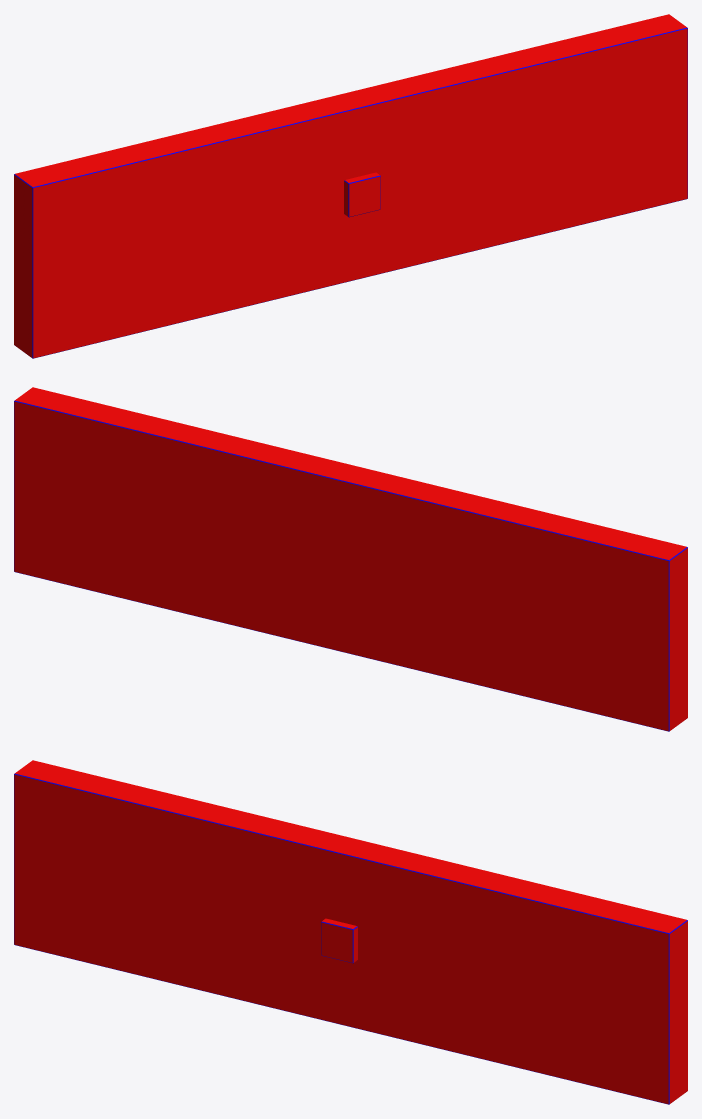
Rendered from alle_Klötze.fbx.
3 renders of one model, top to bottom at view 1: azimuth 30°, elevation 25°; view 2: azimuth 150°, elevation 25°; view 3: azimuth 330°, elevation 25°, orthographic.
Parts seen in each view (by area): view 1: Würfel_5, Würfel_6, Würfel_4, Würfel_7, Würfel_3, Würfel_1; view 2: Würfel_5, Würfel_6, Würfel_4, Würfel_7, Würfel_3, Würfel_2; view 3: Würfel_5, Würfel_6, Würfel_4, Würfel_7, Würfel_3, Würfel_1.
Boxes of the visible parts, box(x1,y1,x2,y2) form: Würfel_5: box(14, 14, 687, 358); Würfel_6: box(14, 97, 687, 289); Würfel_4: box(279, 127, 440, 263); Würfel_7: box(279, 141, 441, 246); Würfel_3: box(279, 158, 441, 229); Würfel_1: box(344, 172, 380, 217); Würfel_5: box(14, 387, 687, 731); Würfel_6: box(14, 470, 687, 662); Würfel_4: box(260, 496, 422, 636); Würfel_7: box(260, 513, 422, 619); Würfel_3: box(260, 530, 422, 601); Würfel_2: box(309, 542, 373, 590); Würfel_5: box(14, 760, 687, 1104); Würfel_6: box(14, 843, 687, 1035); Würfel_4: box(260, 869, 422, 1009); Würfel_7: box(260, 886, 422, 992); Würfel_3: box(260, 903, 422, 975); Würfel_1: box(321, 918, 357, 963).
Size of the model in its own units: 1000 by 250 by 61.85.
